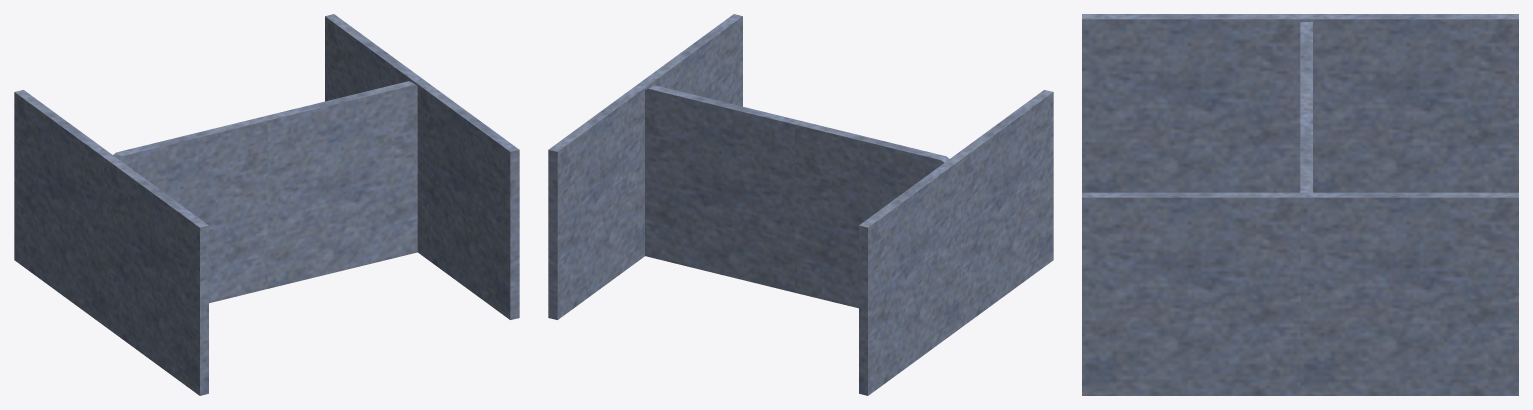
Rendered from divider_full_h_blue.obj.
The picture shows the model from 3 angles, left to right: view 1: azimuth 30°, elevation 25°; view 2: azimuth 150°, elevation 25°; view 3: azimuth 270°, elevation 25°; orthographic projection. The views are drawn at different scales.
Visible parts, largest first — view 1: divider_full_h_blue; view 2: divider_full_h_blue; view 3: divider_full_h_blue.
Boxes of the visible parts, left/top/right/bottom form: divider_full_h_blue: left=14, top=14, right=519, bottom=395; divider_full_h_blue: left=548, top=14, right=1053, bottom=395; divider_full_h_blue: left=1082, top=14, right=1518, bottom=395.
Size of the model in its own units: 2.99 by 1.5 by 3.
